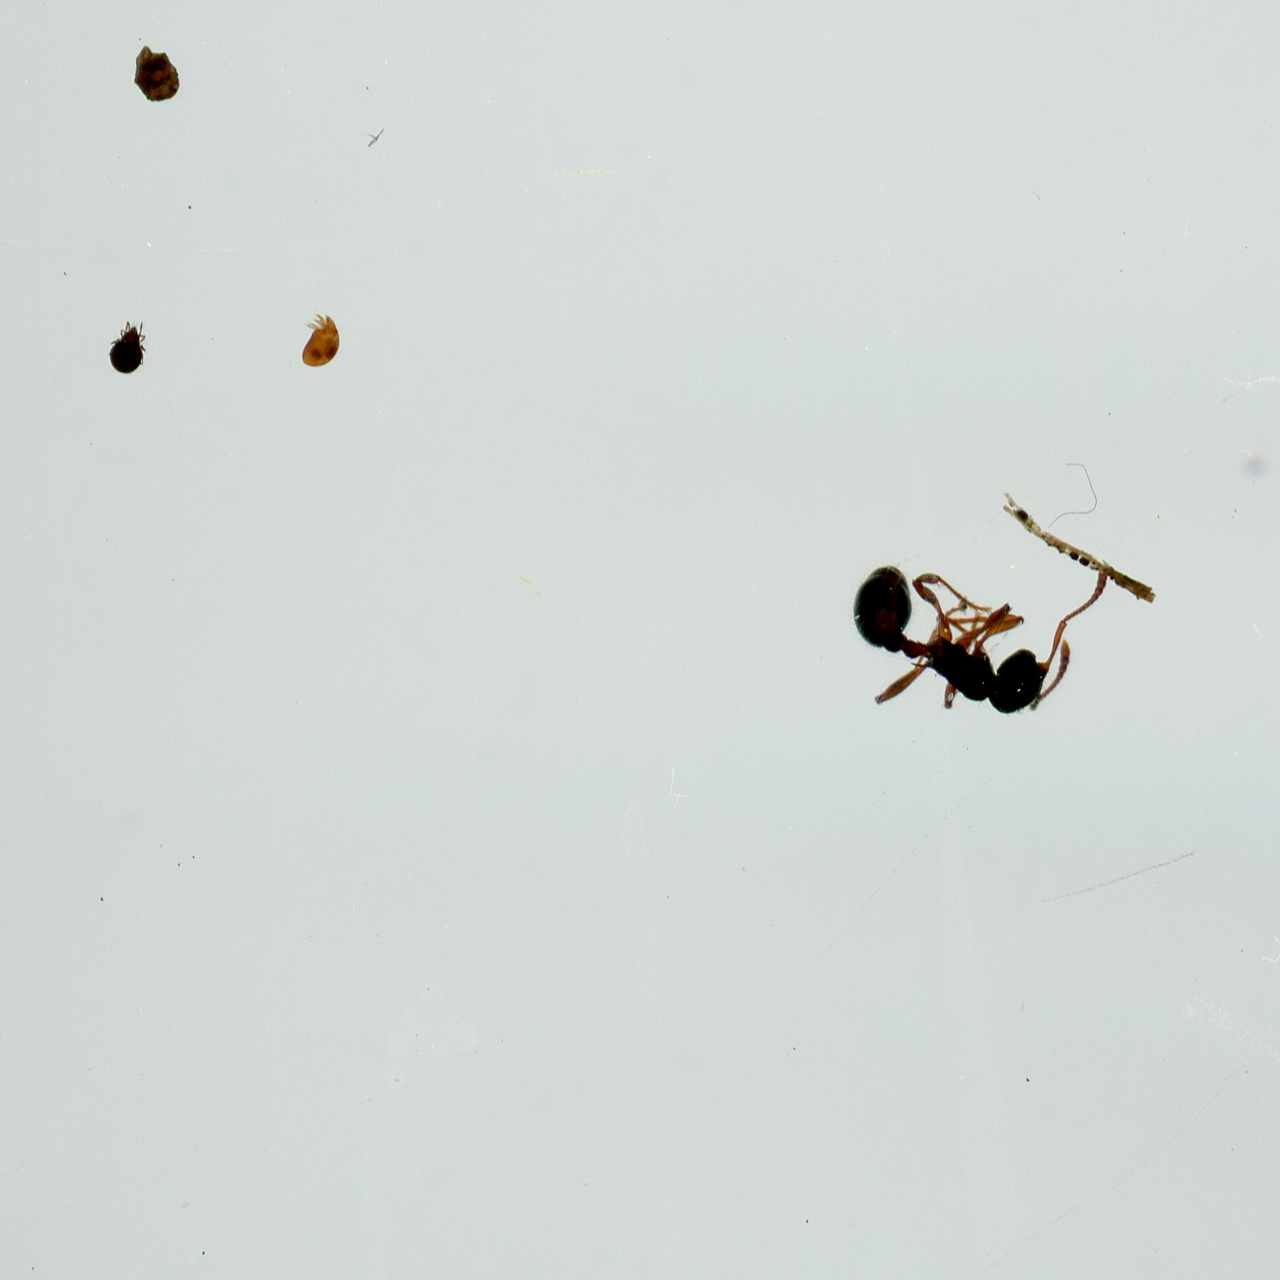arthropod: (851, 550, 1113, 722), (297, 311, 345, 374), (106, 318, 150, 375)
